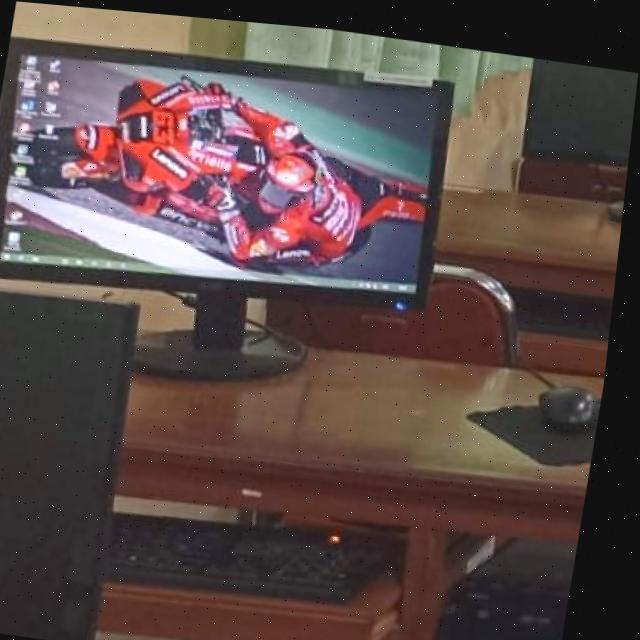onscreen: (0, 38, 454, 297)
